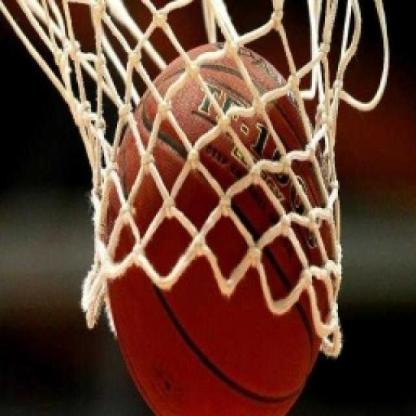basketball: (94, 33, 352, 416)
